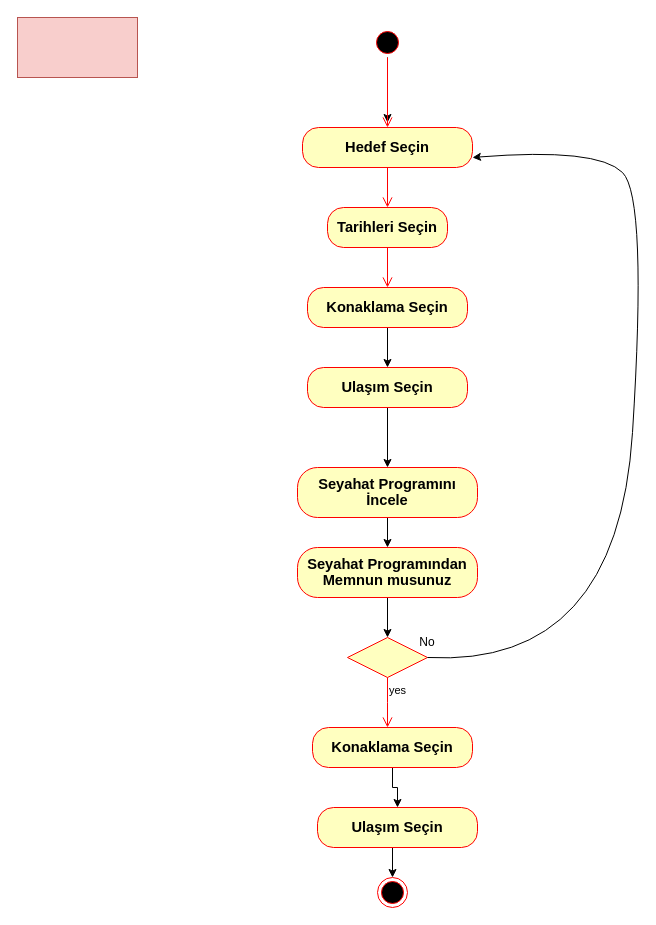
The diagram is 656 pixels wide and 925 high, and some of its shapes have lost their labels. Each missing label, with the box of its shape:
Condition: (346, 636, 428, 678)
Soru 3: (16, 16, 138, 78)
